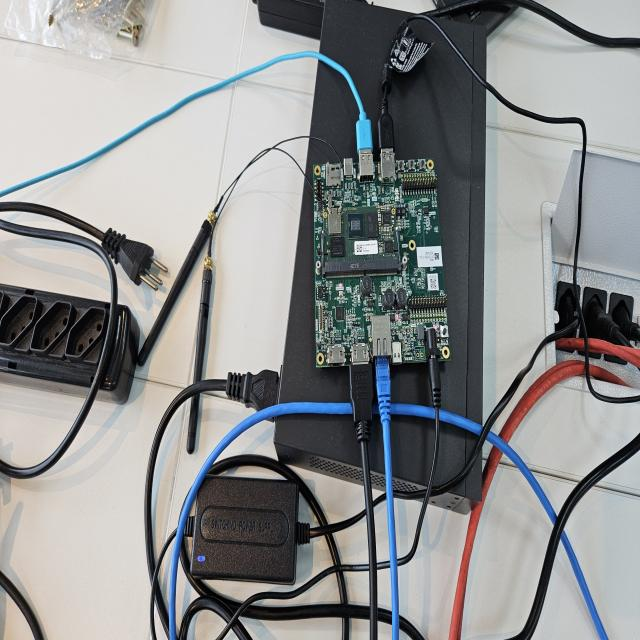som: (317, 202, 400, 270)
